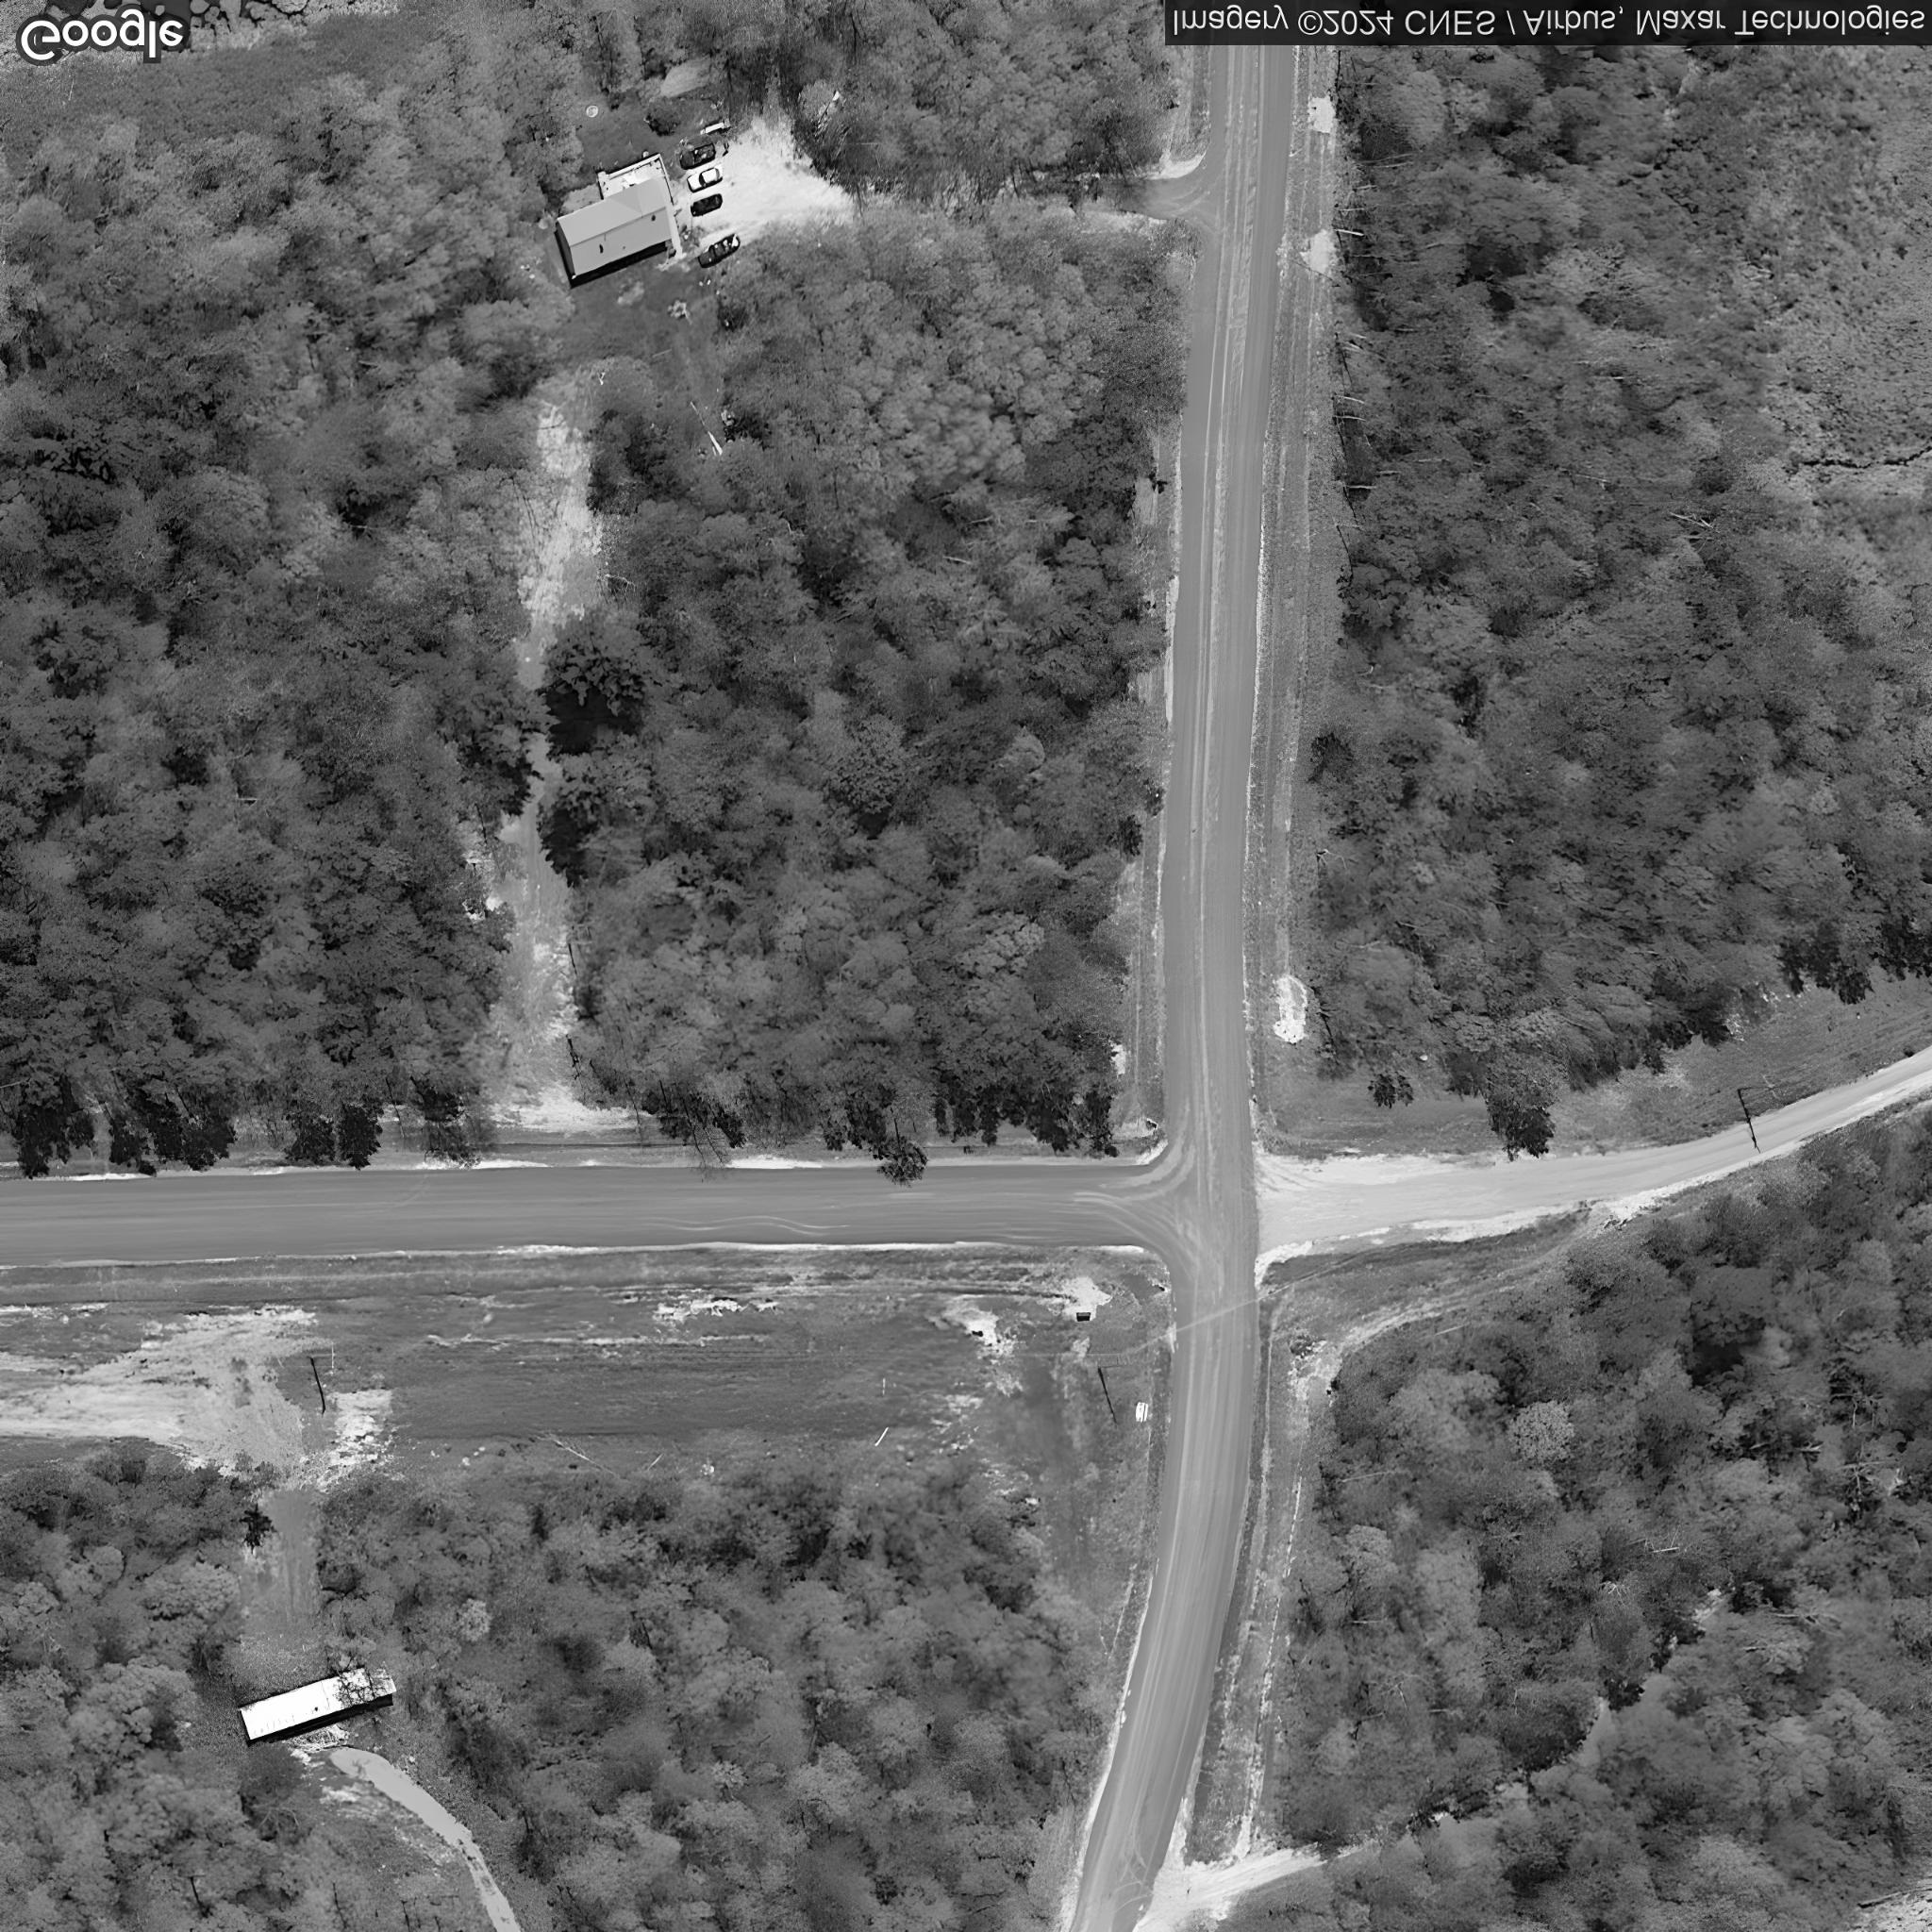House: (552, 173, 672, 280)
Trailer: (237, 1656, 400, 1743)
